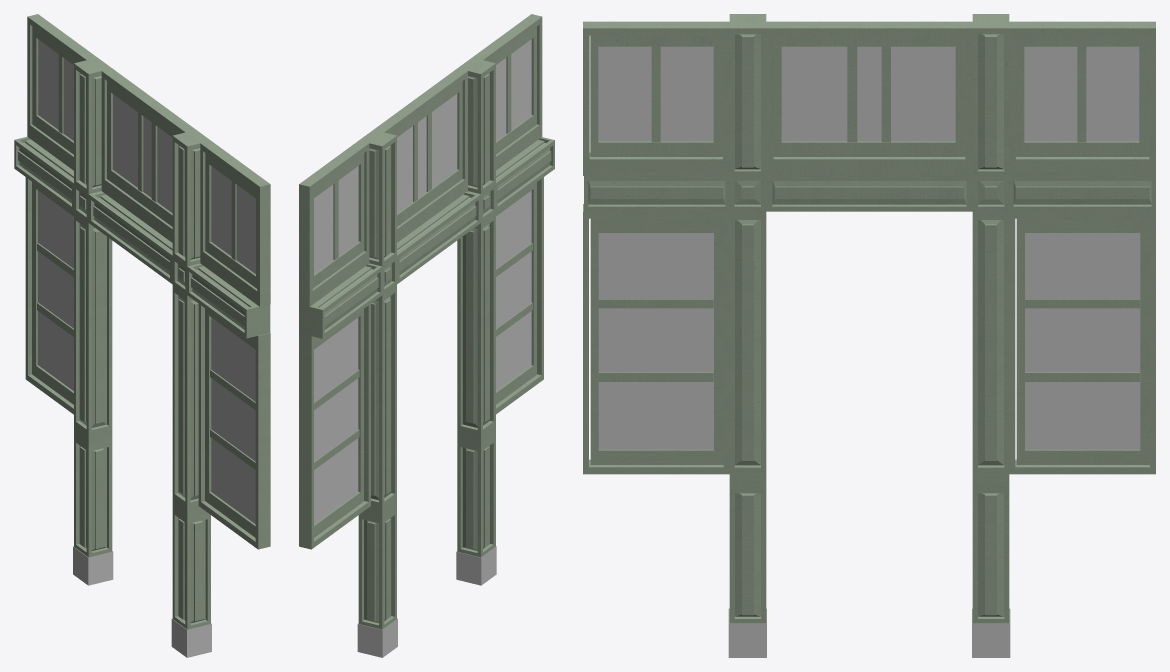
The model's file is SM_WD25_FRAME.fbx.
3 renders of one model, left to right at view 1: azimuth 30°, elevation 25°; view 2: azimuth 150°, elevation 25°; view 3: azimuth 270°, elevation 25°, orthographic. The views are drawn at different scales.
Parts seen in each view (by area): view 1: SM_WD25_FRAME; view 2: SM_WD25_FRAME; view 3: SM_WD25_FRAME.
Boxes of the visible parts, x1,y1,x2,y2 form: SM_WD25_FRAME: (14, 14, 270, 657); SM_WD25_FRAME: (299, 14, 554, 657); SM_WD25_FRAME: (583, 14, 1155, 657).
Size of the model in its own units: 17.57 by 284 by 344.
